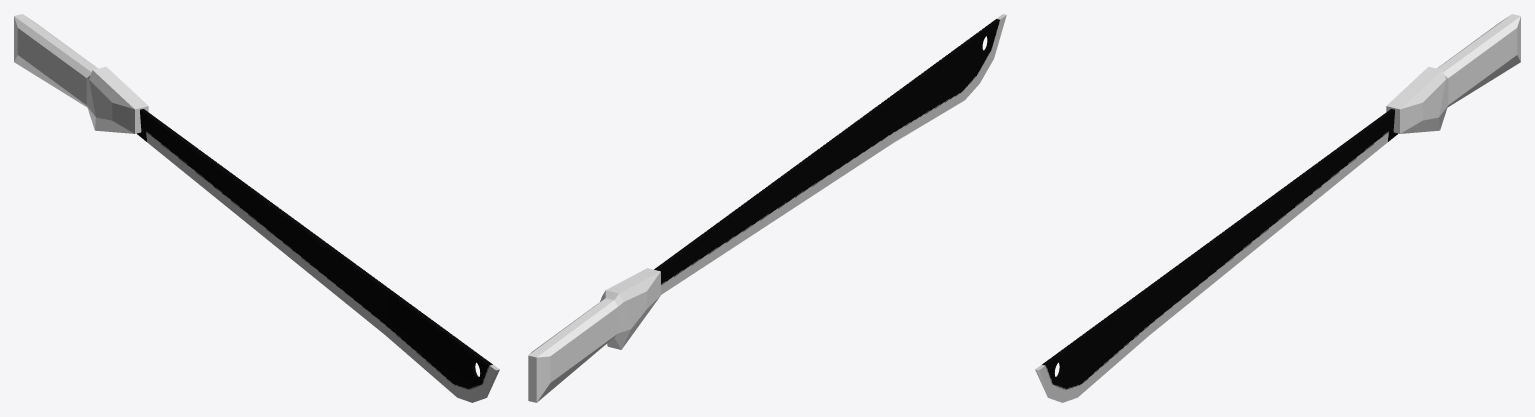
File: garber.glb
3 renders of one model, left to right at view 1: azimuth 30°, elevation 25°; view 2: azimuth 150°, elevation 25°; view 3: azimuth 330°, elevation 25°, orthographic.
Visible parts, largest first — view 1: Cube, 立方体; view 2: Cube, 立方体; view 3: Cube, 立方体.
Boxes of the visible parts, x1,y1,x2,y2 form: Cube: [137, 109, 499, 402]; 立方体: [14, 14, 148, 133]; Cube: [654, 14, 1006, 294]; 立方体: [528, 268, 660, 402]; Cube: [1035, 109, 1397, 402]; 立方体: [1386, 14, 1520, 133].
Size of the model in its own units: 0.0537 by 0.1539 by 1.98.
1 material, 1 textured.
